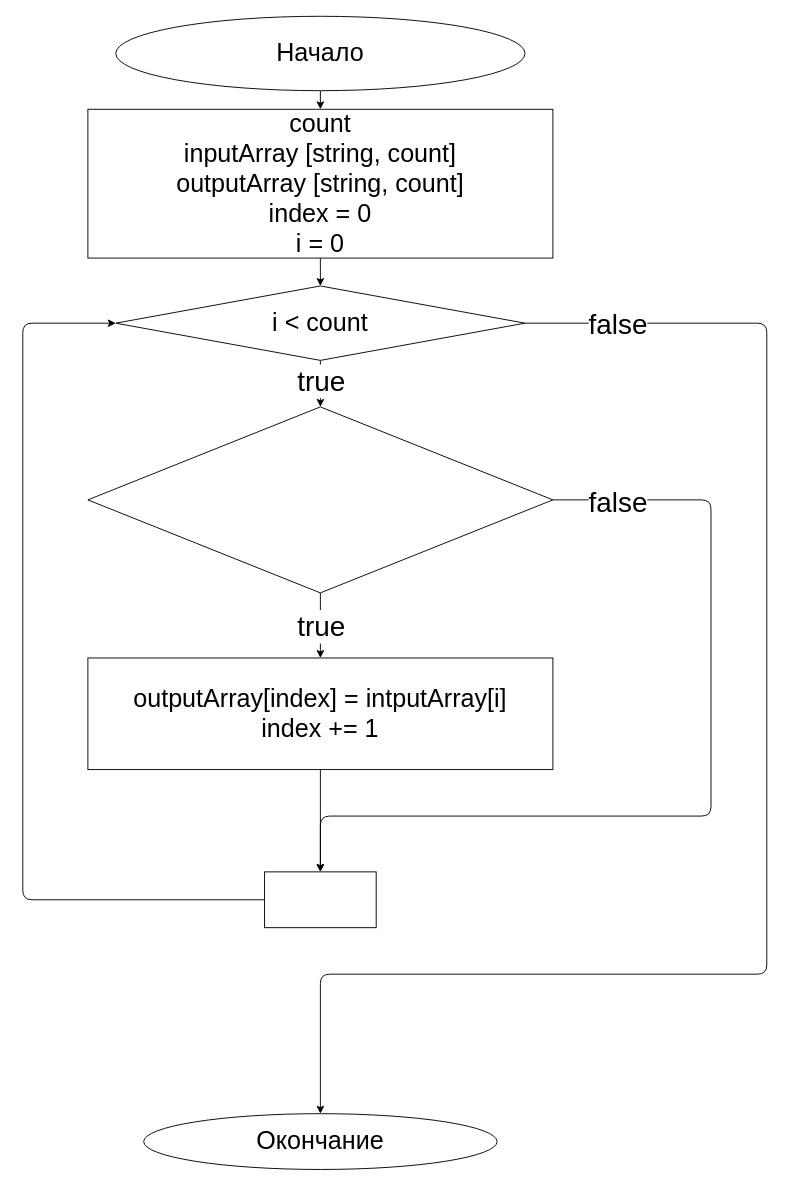
Some shapes in this 791 by 1186 pixel diagram are drawn without their labels. Each missing label, with the centre of its shape:
"i += 1" goes at point (320, 899).
"inputArray[i].length <=3" goes at point (320, 499).
